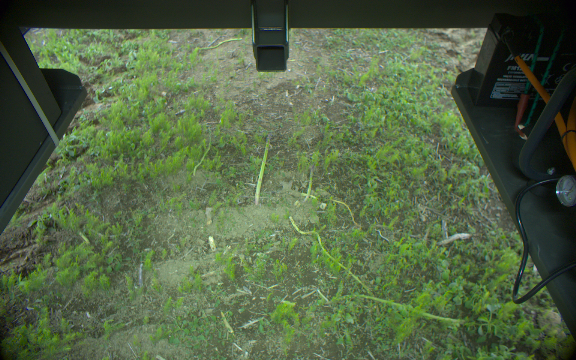aspa: (252, 131, 274, 205), (301, 159, 317, 201)
